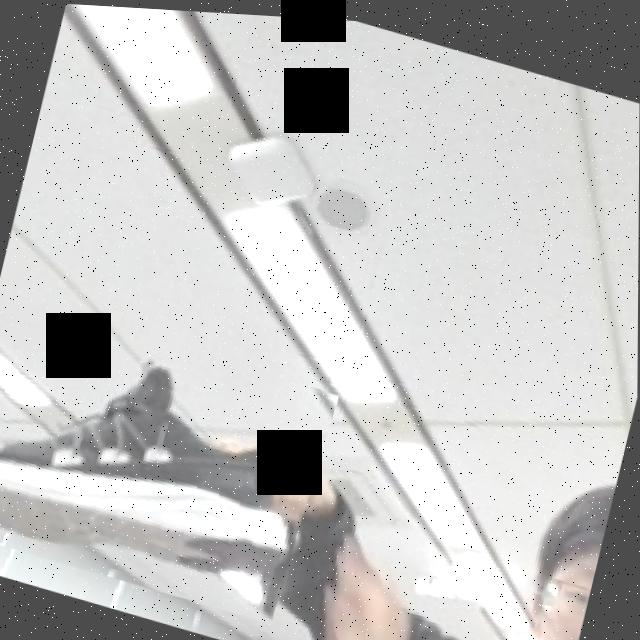shoe: (0, 289, 342, 626)
